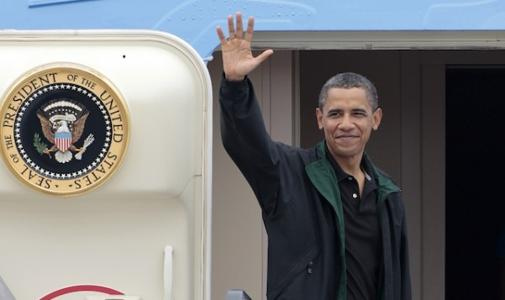person: (215, 13, 417, 300)
